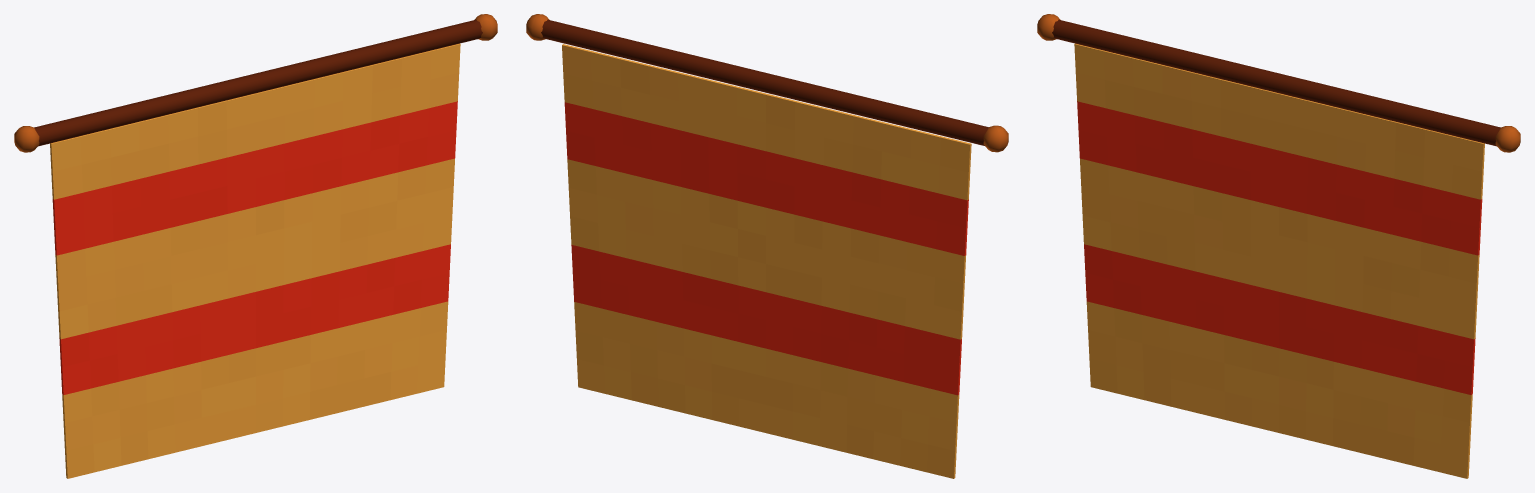
Rendered from tb_sail_sunset.three-web-toon.glb.
The picture shows the model from 3 angles, left to right: view 1: azimuth 30°, elevation 25°; view 2: azimuth 150°, elevation 25°; view 3: azimuth 330°, elevation 25°; orthographic projection.
Parts seen in each view (by area): view 1: sail_cloth, sail_yard; view 2: sail_cloth, sail_yard; view 3: sail_cloth, sail_yard.
Boxes of the visible parts, bbox=[...] form: sail_cloth: bbox=[50, 43, 460, 478]; sail_yard: bbox=[14, 14, 497, 152]; sail_cloth: bbox=[562, 44, 971, 478]; sail_yard: bbox=[526, 14, 1008, 152]; sail_cloth: bbox=[1074, 43, 1484, 478]; sail_yard: bbox=[1037, 14, 1520, 152].
Size of the model in its own units: 2.82 by 2.03 by 0.1331.
